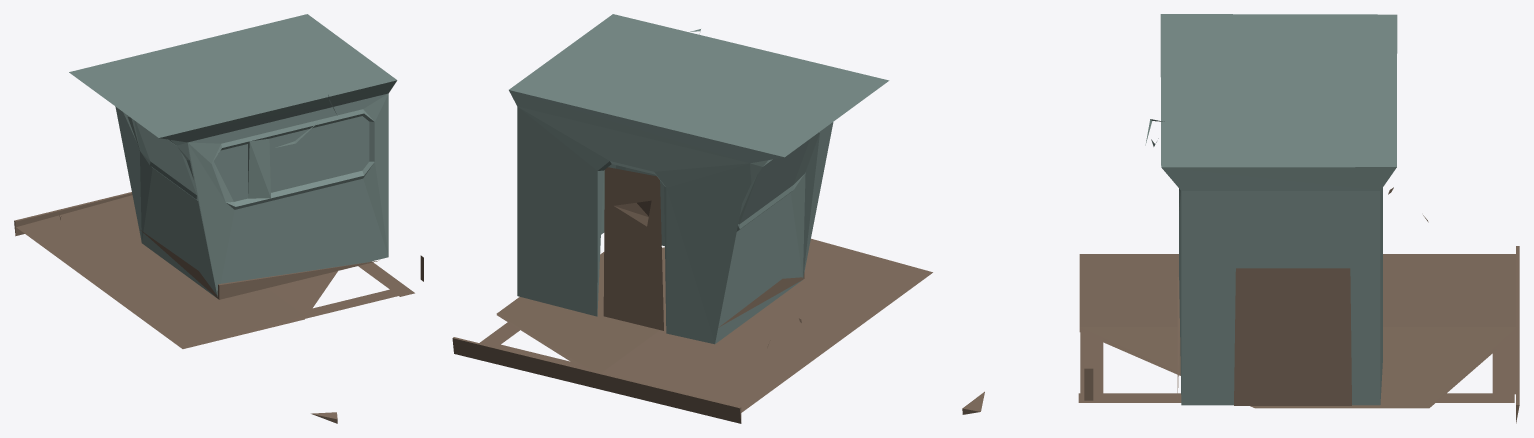
File: lifeguard-tower.lod2.glb
3 renders of one model, left to right at view 1: azimuth 30°, elevation 25°; view 2: azimuth 150°, elevation 25°; view 3: azimuth 270°, elevation 25°, orthographic. The views are drawn at different scales.
Parts seen in each view (by area): view 1: Object_2; view 2: Object_2; view 3: Object_2.
Part boxes in pixels (x1,y1,x2,y2): Object_2: (14, 14, 423, 423); Object_2: (452, 14, 932, 423); Object_2: (962, 14, 1519, 423).
Size of the model in its own units: 3.97 by 3.87 by 5.8.
